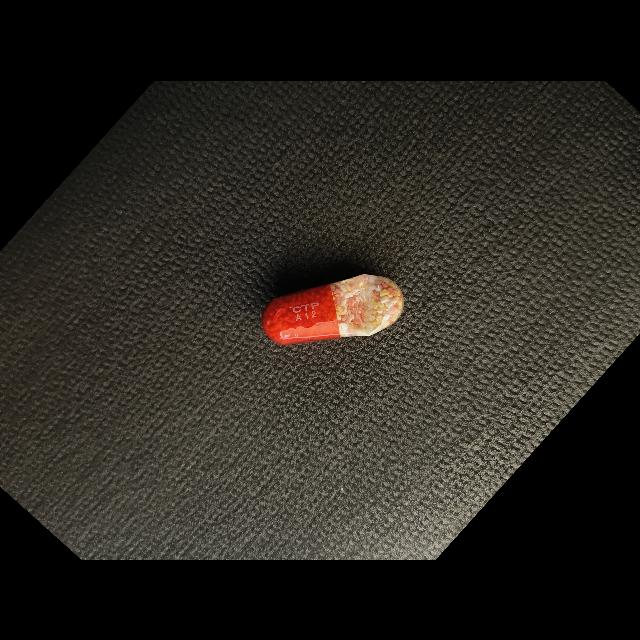Defective Capsule: (262, 273, 404, 344)
